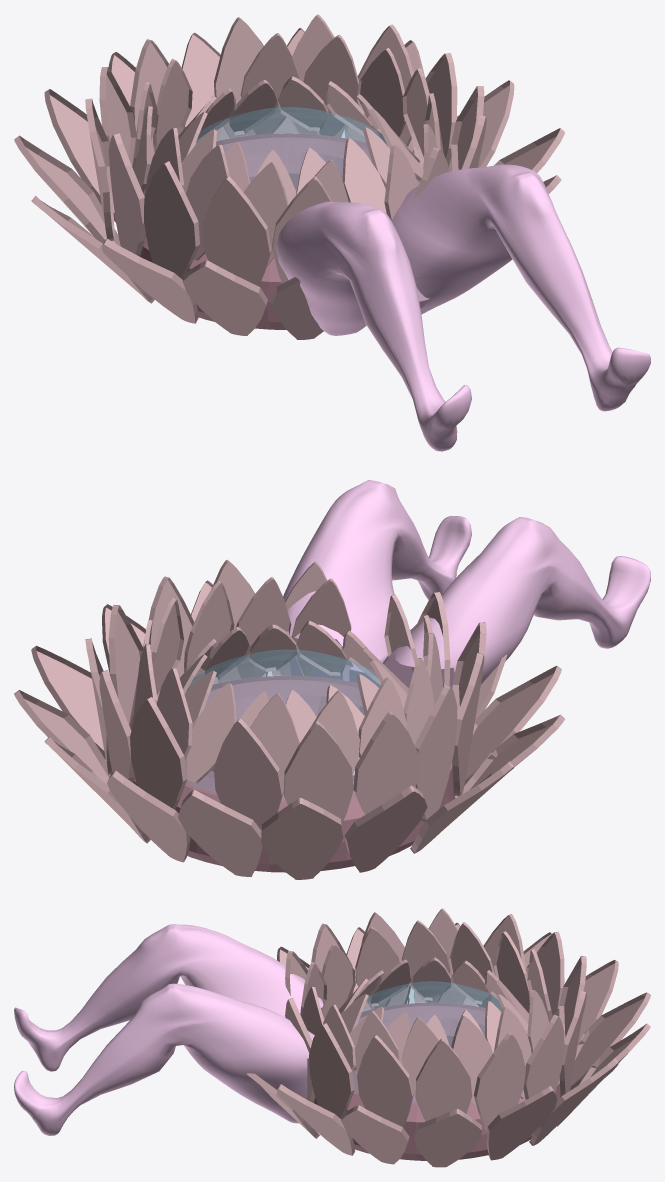
Rendered from Galeria.glb.
3 renders of one model, top to bottom at view 1: azimuth 30°, elevation 25°; view 2: azimuth 150°, elevation 25°; view 3: azimuth 270°, elevation 25°, orthographic. The views are drawn at different scales.
Visible parts, largest first — view 1: Torus.002; view 2: Torus.002; view 3: Torus.002.
Part boxes in pixels (left/top/right/bottom): Torus.002: left=14, top=14, right=650, bottom=451; Torus.002: left=14, top=480, right=650, bottom=879; Torus.002: left=14, top=908, right=650, bottom=1167.
Size of the model in its own units: 20.93 by 8.15 by 29.72.
